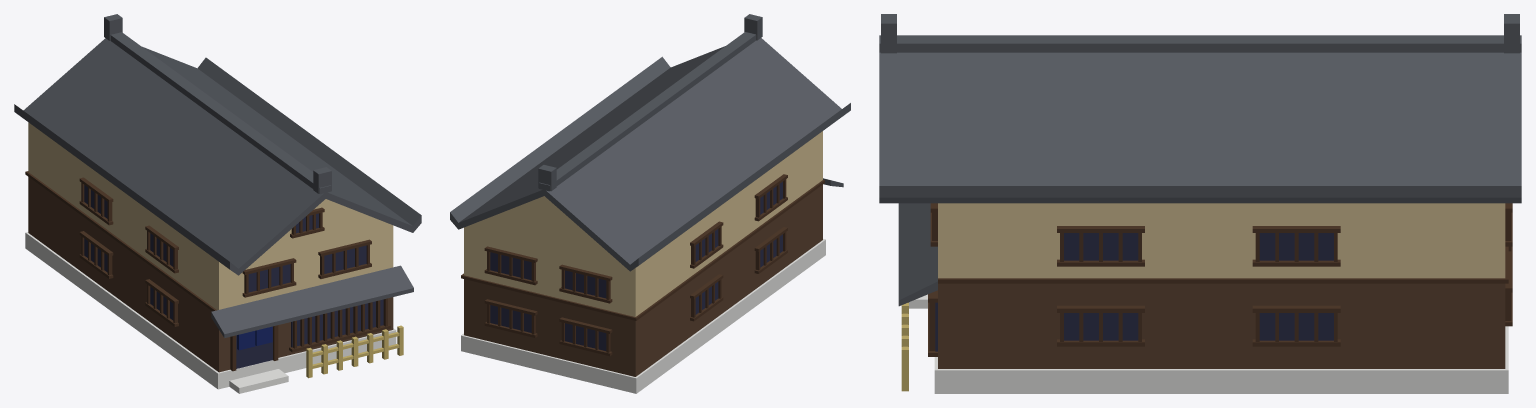
The model's file is house-1x2-2f-machiya-a.glb.
The picture shows the model from 3 angles, left to right: view 1: azimuth 30°, elevation 25°; view 2: azimuth 150°, elevation 25°; view 3: azimuth 270°, elevation 25°; orthographic projection. The views are drawn at different scales.
Parts seen in each view (by area): view 1: house-1x2-2f-machiya-a; view 2: house-1x2-2f-machiya-a; view 3: house-1x2-2f-machiya-a.
Part boxes in pixels (x1,y1,x2,y2): house-1x2-2f-machiya-a: (14,14,421,393); house-1x2-2f-machiya-a: (450,14,850,393); house-1x2-2f-machiya-a: (879,14,1521,393).
Size of the model in its own units: 1.01 by 1.05 by 1.97.
1 material, 1 textured.
